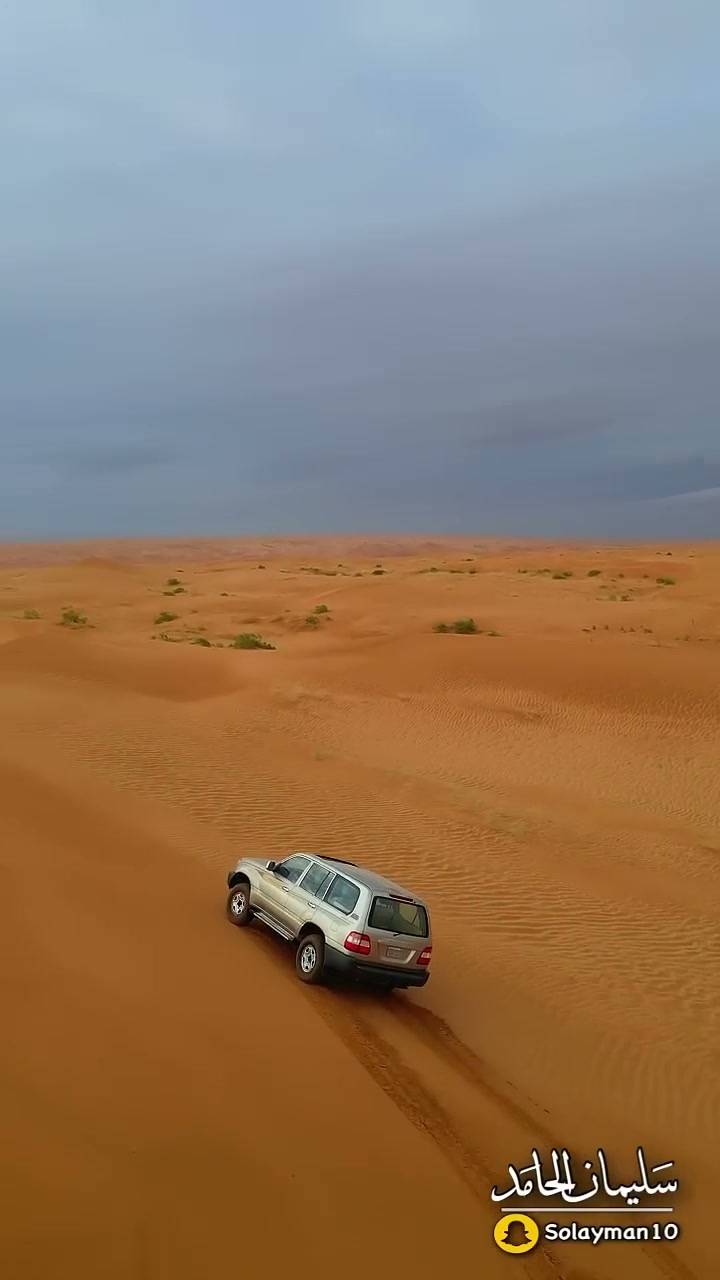vehicle_track: (308, 989, 562, 1214)
